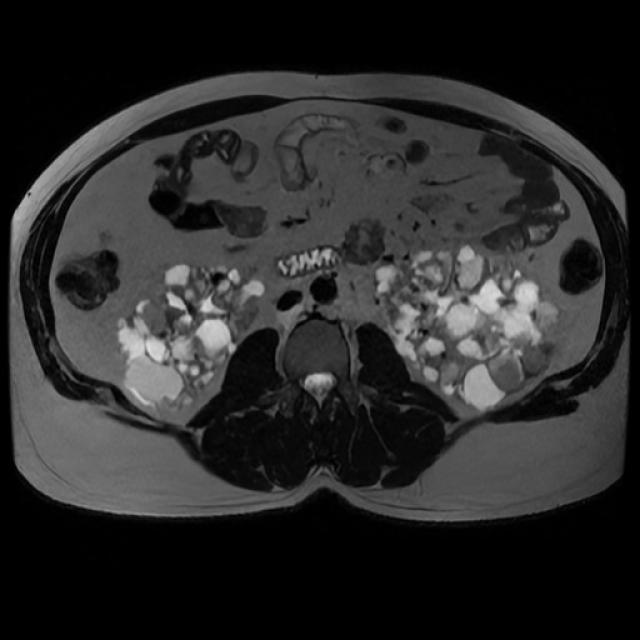sag: (118, 263, 265, 421)
sol: (372, 244, 560, 412)
